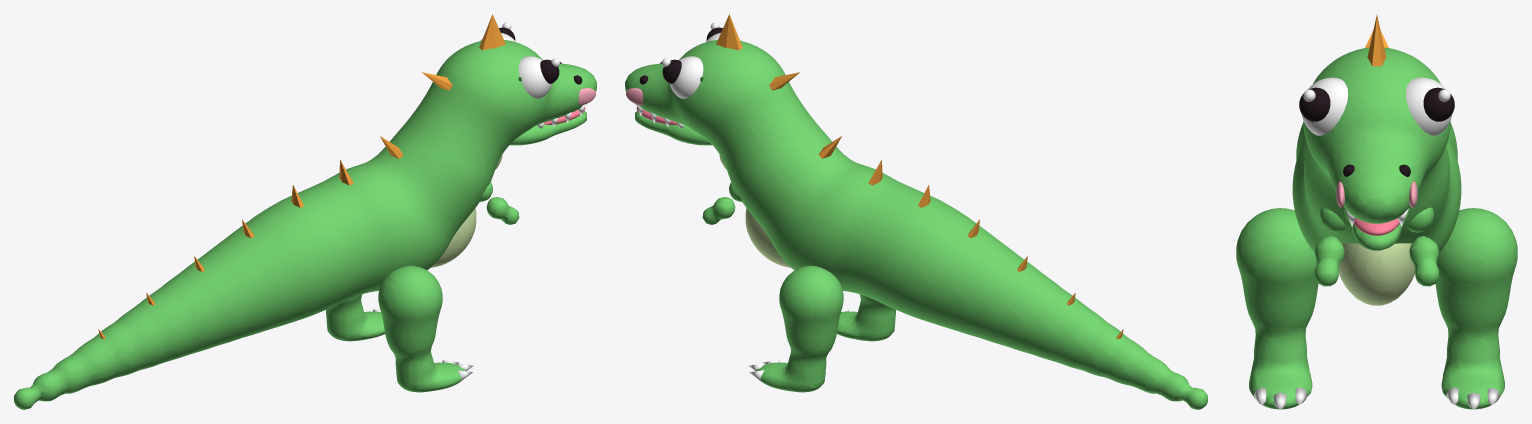
The model's file is dino.glb.
3 views of the same model, side by side, from view 1: azimuth 30°, elevation 25°; view 2: azimuth 150°, elevation 25°; view 3: azimuth 270°, elevation 25° (orthographic). The views are drawn at different scales.
Visible parts, largest first — view 1: body, leg_L_m, leg_R_m, eye-1, belly, jaw_mesh, arm_L_m; view 2: body, leg_R_m, leg_L_m, eye1, belly, jaw_mesh, arm_R_m; view 3: body, leg_R_m, leg_L_m, belly, arm_L_m, arm_R_m, eye1, eye-1, jaw_mesh, pupil1, pupil-1, spike0 (+1 smaller).
Part boxes in pixels (x1=…): body: x1=14, y1=40, x2=596, y2=409; leg_L_m: x1=378, y1=265, x2=465, y2=392; leg_R_m: x1=326, y1=294, x2=384, y2=341; eye-1: x1=518, y1=56, x2=552, y2=98; belly: x1=431, y1=155, x2=502, y2=267; jaw_mesh: x1=509, y1=111, x2=586, y2=145; arm_L_m: x1=479, y1=182, x2=519, y2=224; body: x1=625, y1=40, x2=1207, y2=409; leg_R_m: x1=756, y1=265, x2=843, y2=392; leg_L_m: x1=837, y1=294, x2=895, y2=341; eye1: x1=669, y1=56, x2=703, y2=98; belly: x1=719, y1=155, x2=790, y2=267; jaw_mesh: x1=635, y1=111, x2=712, y2=145; arm_R_m: x1=702, y1=182, x2=742, y2=224; body: x1=1292, y1=47, x2=1461, y2=252; leg_R_m: x1=1435, y1=208, x2=1517, y2=409; leg_L_m: x1=1236, y1=208, x2=1318, y2=409; belly: x1=1338, y1=243, x2=1415, y2=305; arm_L_m: x1=1314, y1=207, x2=1345, y2=286; arm_R_m: x1=1408, y1=207, x2=1439, y2=286; eye1: x1=1405, y1=77, x2=1452, y2=135; eye-1: x1=1301, y1=77, x2=1348, y2=135; jaw_mesh: x1=1344, y1=207, x2=1409, y2=250; pupil1: x1=1423, y1=87, x2=1454, y2=121; pupil-1: x1=1299, y1=87, x2=1330, y2=121; spike0: x1=1367, y1=15, x2=1386, y2=66.
Bounding box in the file's own units: 5.93 × 3.17 × 1.81.
